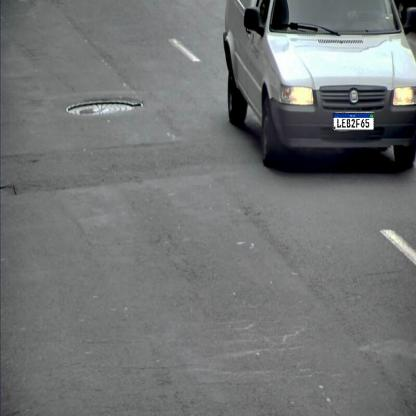PlacaM: (333, 113, 374, 130)
